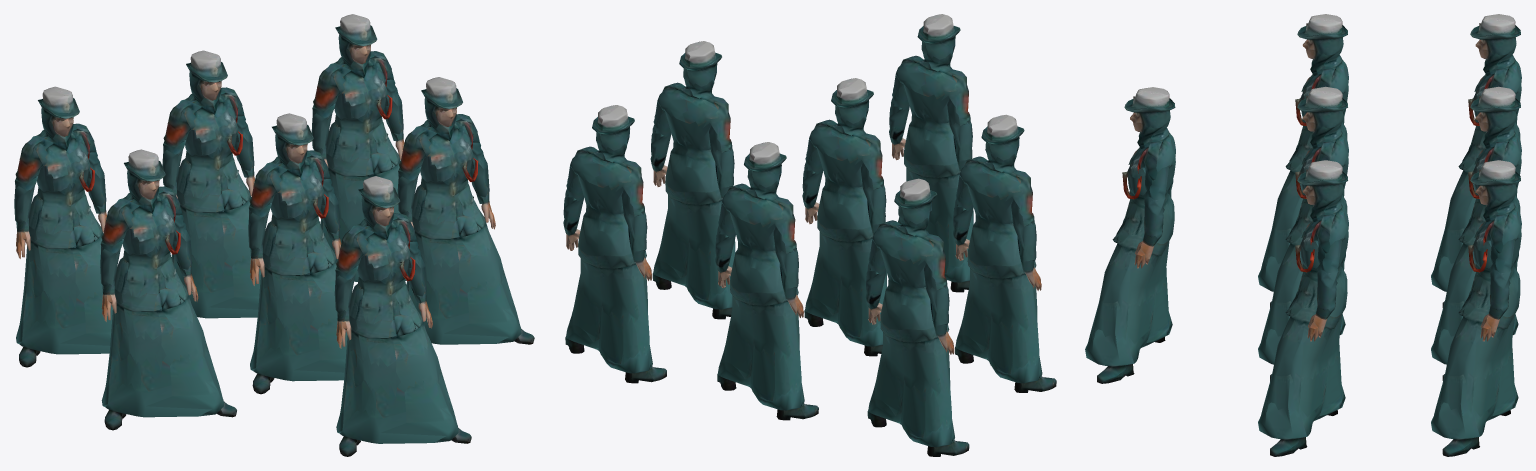
Rendered from parade_uae_idle_lod2.glb.
The picture shows the model from 3 angles, left to right: view 1: azimuth 30°, elevation 25°; view 2: azimuth 150°, elevation 25°; view 3: azimuth 270°, elevation 25°; orthographic projection.
Parts seen in each view (by area): view 1: tripo_node_9774fca4-fe61-4669-b829-f6ac5d93d194; view 2: tripo_node_9774fca4-fe61-4669-b829-f6ac5d93d194; view 3: tripo_node_9774fca4-fe61-4669-b829-f6ac5d93d194.
Part boxes in pixels (x1,y1,x2,y2): tripo_node_9774fca4-fe61-4669-b829-f6ac5d93d194: [14, 14, 534, 456]; tripo_node_9774fca4-fe61-4669-b829-f6ac5d93d194: [563, 14, 1056, 456]; tripo_node_9774fca4-fe61-4669-b829-f6ac5d93d194: [1085, 14, 1521, 456].
Bounding box in the file's own units: 1.65 × 0.9962 × 1.52.
1 material, 1 textured.
